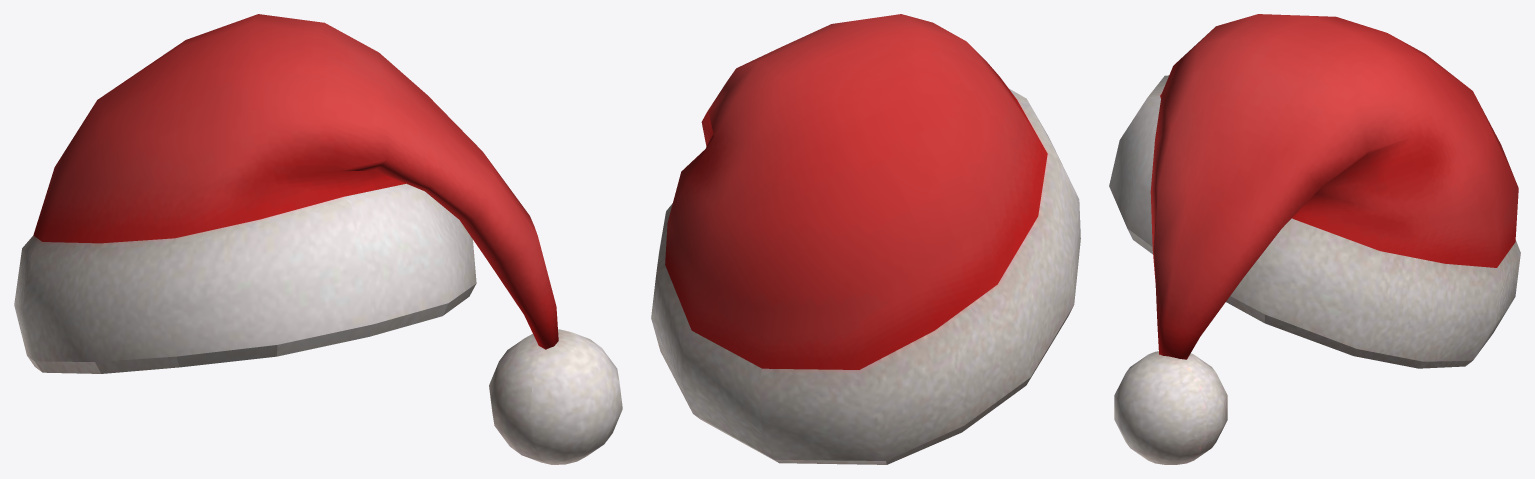
Rendered from helm0104.fbx.
The picture shows the model from 3 angles, left to right: view 1: azimuth 30°, elevation 25°; view 2: azimuth 150°, elevation 25°; view 3: azimuth 270°, elevation 25°; orthographic projection. The views are drawn at different scales.
Parts seen in each view (by area): view 1: helm0104; view 2: helm0104; view 3: helm0104.
Boxes of the visible parts, x1=… form: helm0104: x1=14, y1=14, x2=622, y2=464; helm0104: x1=651, y1=14, x2=1080, y2=464; helm0104: x1=1109, y1=14, x2=1520, y2=464.
Bounding box in the file's own units: 0.464 × 0.3851 × 0.4102.
